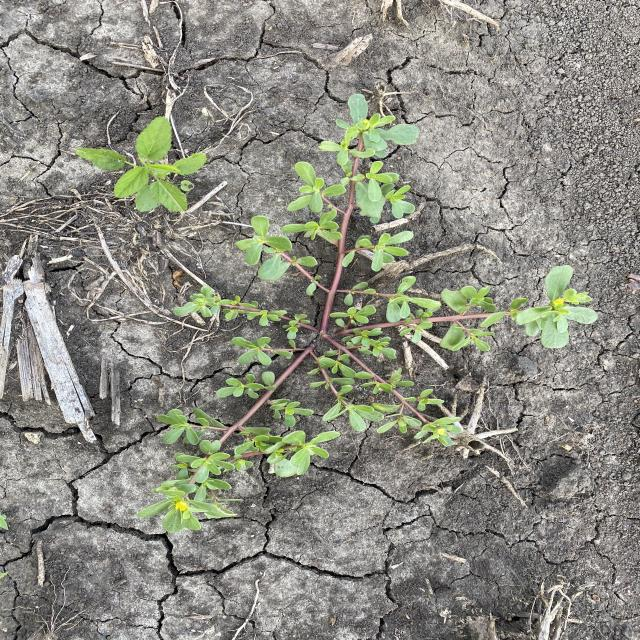PricklySida: (73, 110, 211, 214)
Purslane: (133, 92, 600, 535)
